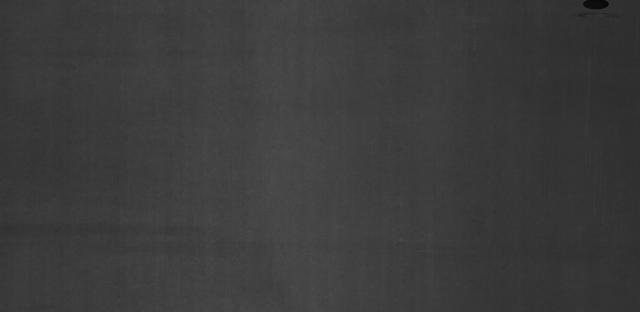punching_hole: (577, 0, 617, 18)
